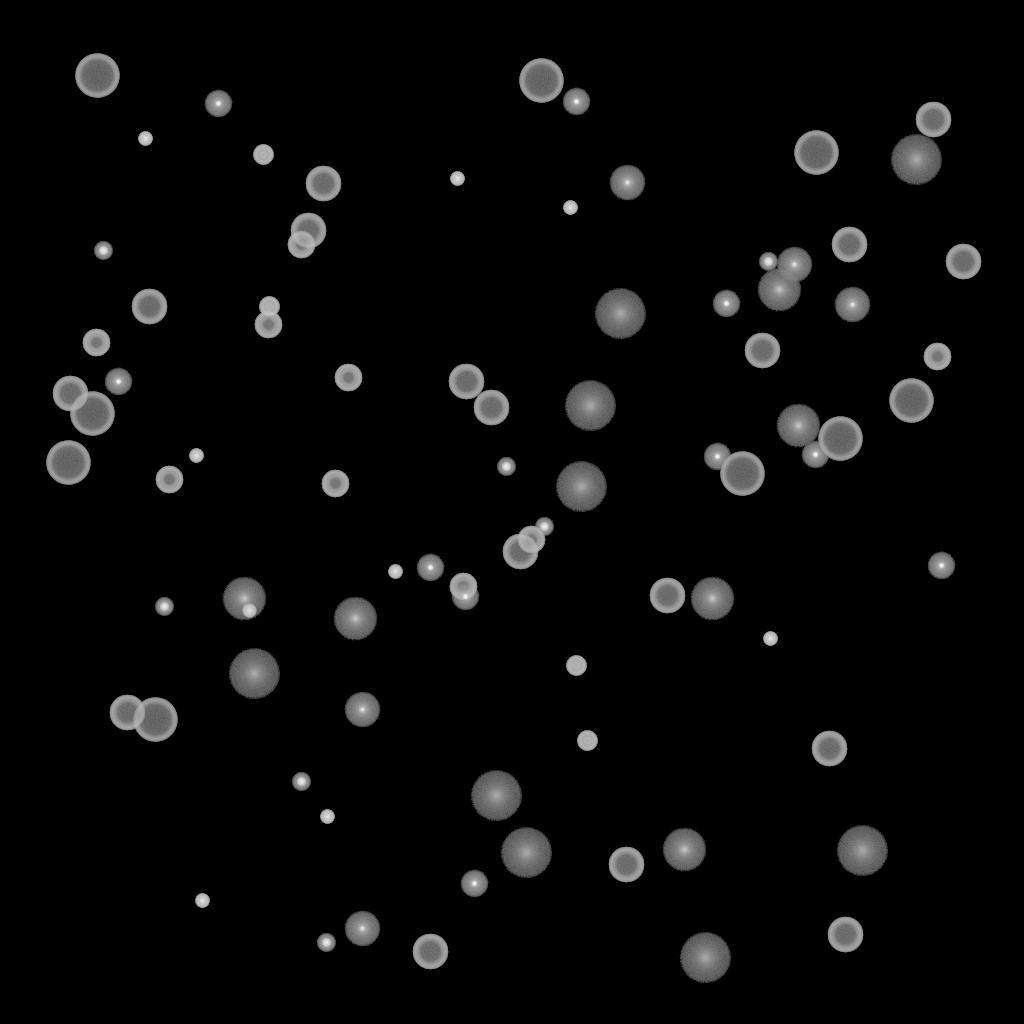depth:-10: (104, 368, 132, 396), (460, 870, 488, 898), (712, 290, 740, 318), (927, 552, 955, 580), (204, 90, 232, 118), (703, 443, 731, 471), (416, 554, 444, 582), (562, 88, 590, 116), (801, 441, 829, 469), (451, 583, 479, 611)
depth:-20: (292, 773, 310, 791), (759, 253, 777, 271), (155, 598, 173, 616), (317, 934, 335, 952), (497, 458, 515, 476), (94, 242, 112, 260), (535, 518, 553, 536)
depth:-30: (189, 449, 203, 463), (763, 632, 777, 646), (563, 201, 577, 215), (320, 810, 334, 824), (388, 565, 402, 579), (242, 604, 256, 618), (195, 894, 209, 908), (138, 132, 152, 146), (450, 172, 464, 186)
depth:-40: (577, 731, 597, 751), (253, 145, 273, 165), (259, 297, 279, 317), (566, 656, 586, 676)
depth:-50: (321, 470, 349, 498), (82, 329, 110, 357), (254, 311, 282, 339), (923, 343, 951, 371), (155, 466, 183, 494), (517, 526, 545, 554), (287, 231, 315, 259), (449, 573, 477, 601), (334, 364, 362, 392)
depth:-60: (473, 390, 509, 426), (831, 227, 867, 263), (412, 934, 448, 970), (502, 534, 538, 570), (744, 333, 780, 369), (52, 376, 88, 412), (608, 847, 644, 883), (945, 244, 981, 280), (915, 102, 951, 138), (109, 695, 145, 731), (305, 166, 341, 202), (811, 731, 847, 767), (649, 578, 685, 614), (290, 213, 326, 249), (131, 289, 167, 325), (448, 364, 484, 400), (827, 917, 863, 953)
depth:-70: (818, 417, 862, 461), (720, 452, 764, 496), (75, 54, 119, 98), (46, 441, 90, 485), (519, 59, 563, 103), (794, 131, 838, 175), (889, 379, 933, 423), (133, 698, 177, 742), (70, 392, 114, 436)
depth:0: (776, 247, 812, 283), (344, 692, 380, 728), (609, 165, 645, 201), (834, 287, 870, 323), (344, 911, 380, 947)
depth:10: (222, 577, 266, 621), (662, 828, 706, 872), (690, 577, 734, 621), (776, 404, 820, 448), (333, 597, 377, 641), (757, 268, 801, 312)
depth:20: (836, 826, 888, 876), (500, 828, 552, 878), (564, 381, 616, 431), (594, 289, 646, 339), (470, 771, 522, 821), (228, 649, 280, 699), (890, 135, 942, 185), (555, 462, 607, 512), (679, 933, 731, 983)
